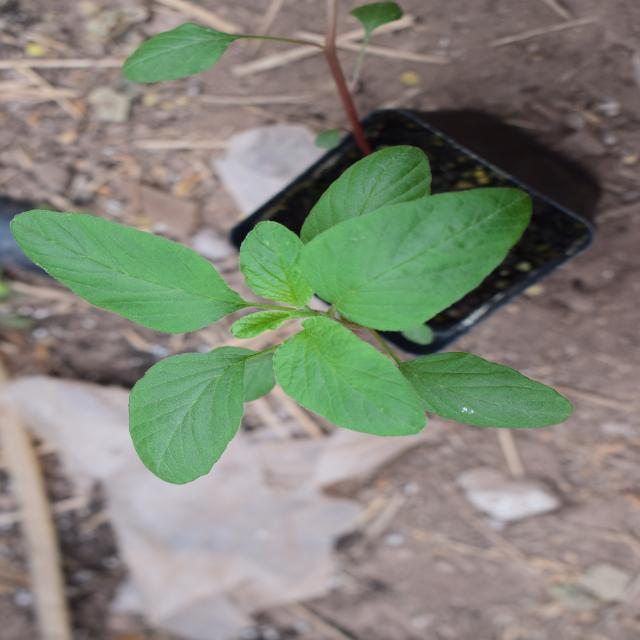pigweed: (162, 30, 496, 539)
